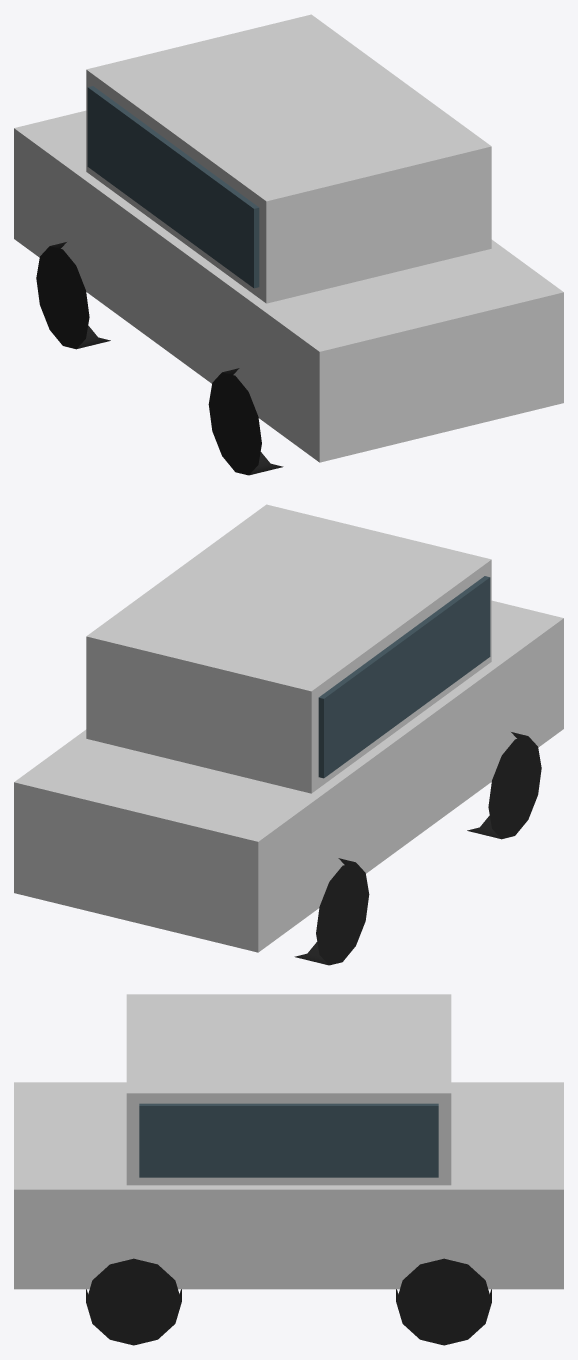
The model's file is suv.glb.
3 renders of one model, top to bottom at view 1: azimuth 30°, elevation 25°; view 2: azimuth 150°, elevation 25°; view 3: azimuth 270°, elevation 25°, orthographic. The views are drawn at different scales.
Parts seen in each view (by area): view 1: cars/suv; view 2: cars/suv; view 3: cars/suv.
Part boxes in pixels (x1,y1,x2,y2): cars/suv: (14,14,563,475); cars/suv: (14,504,563,965); cars/suv: (14,994,563,1345).
Bounding box in the file's own units: 0.5283 × 0.482 × 1.
